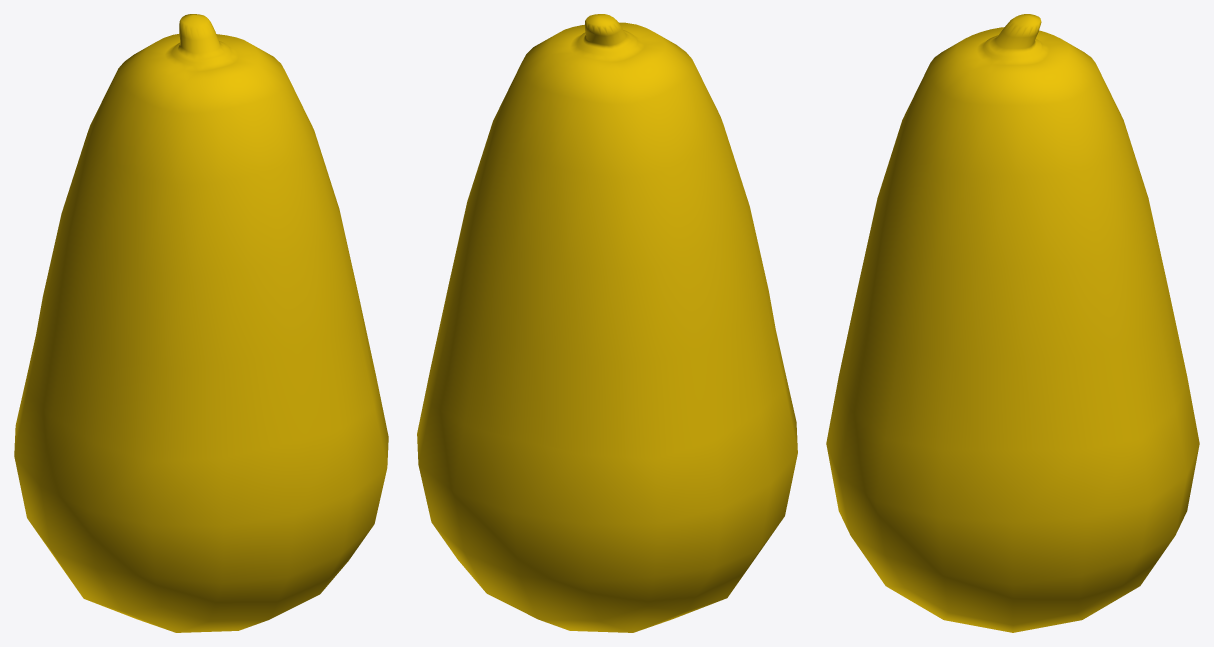
The model's file is Squash1.fbx.
3 renders of one model, left to right at view 1: azimuth 30°, elevation 25°; view 2: azimuth 150°, elevation 25°; view 3: azimuth 270°, elevation 25°, orthographic.
Parts seen in each view (by area): view 1: Squash; view 2: Squash; view 3: Squash.
Part boxes in pixels (x1,y1,x2,y2): Squash: (14, 14, 388, 632); Squash: (417, 14, 797, 632); Squash: (826, 14, 1199, 632).
Size of the model in its own units: 2.46 by 4.34 by 2.46.
